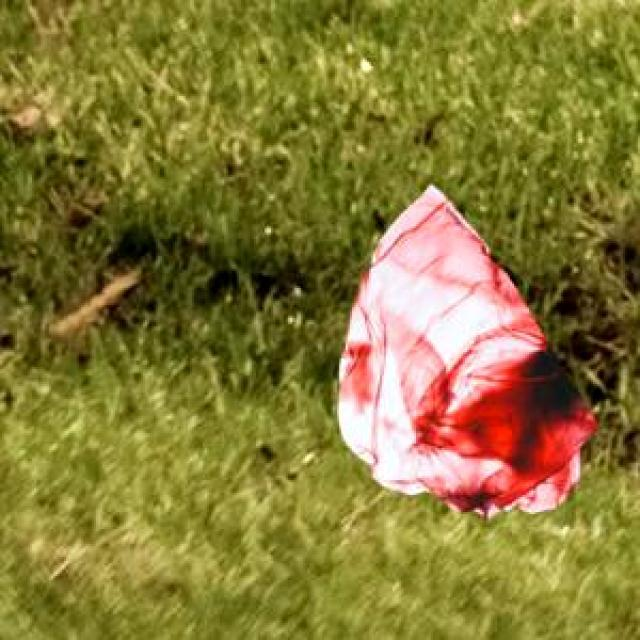Plastic_Bag: (336, 182, 596, 516)
